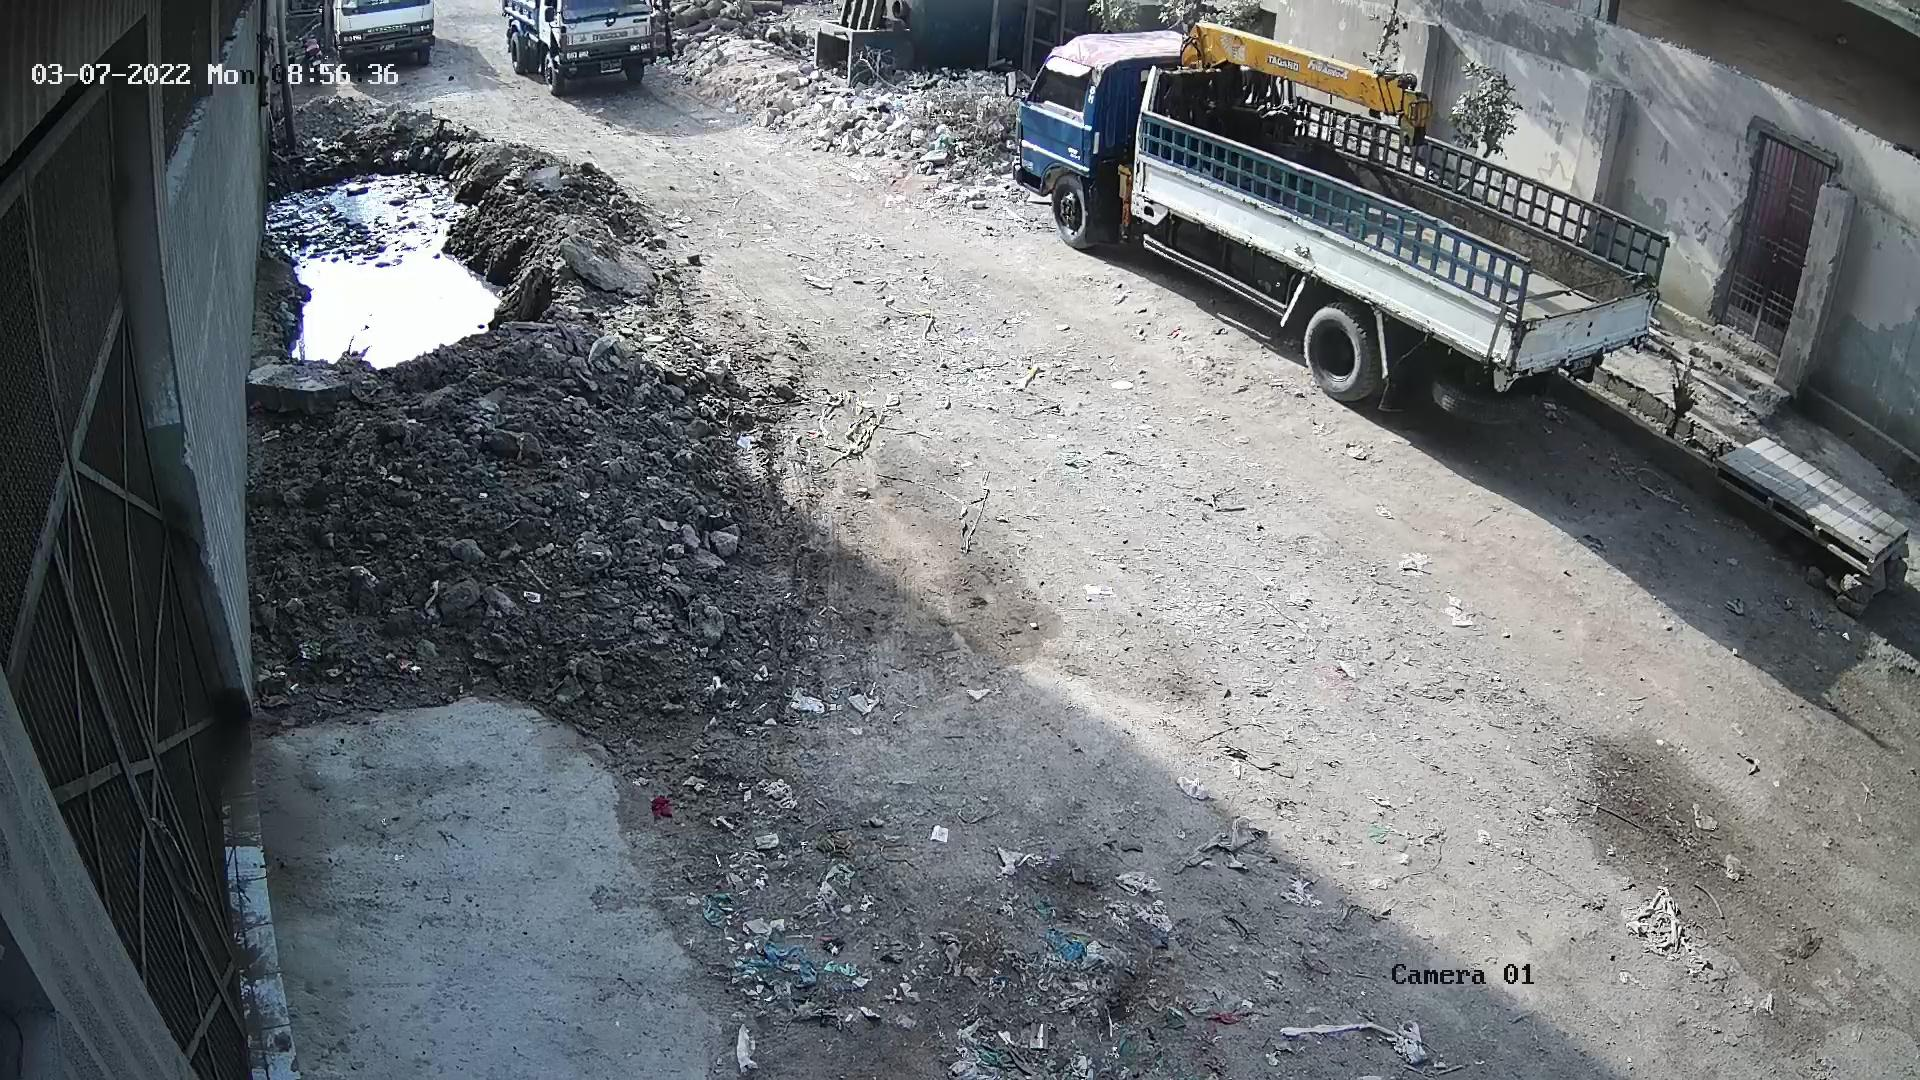bike: (305, 30, 327, 84)
other: (1014, 24, 1673, 401), (502, 0, 662, 92), (335, 1, 442, 70)
